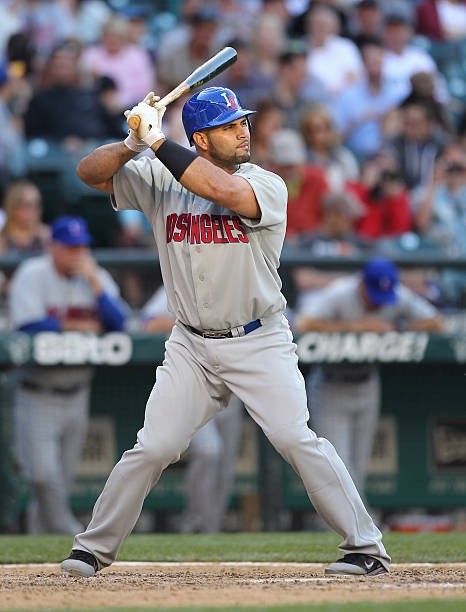bita: (129, 43, 240, 128)
